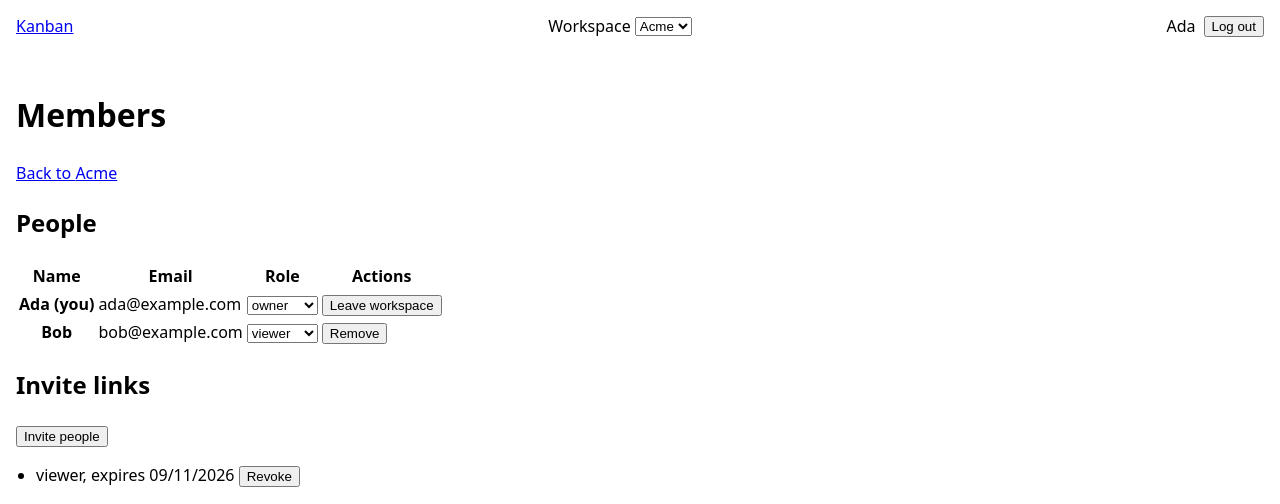
Test: members page › revokes an active invite optimistically
Click the button with aria-label "Revoke viewer invite" at (269, 476), box [239,466,300,486]
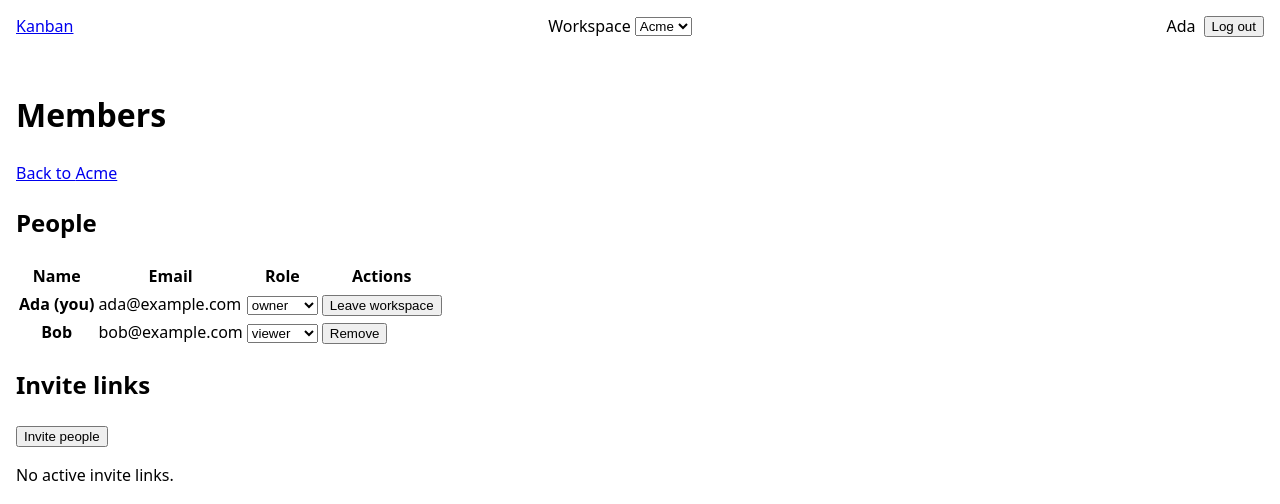
Result: the text "No active invite links." is shown at [16,464,174,486]
